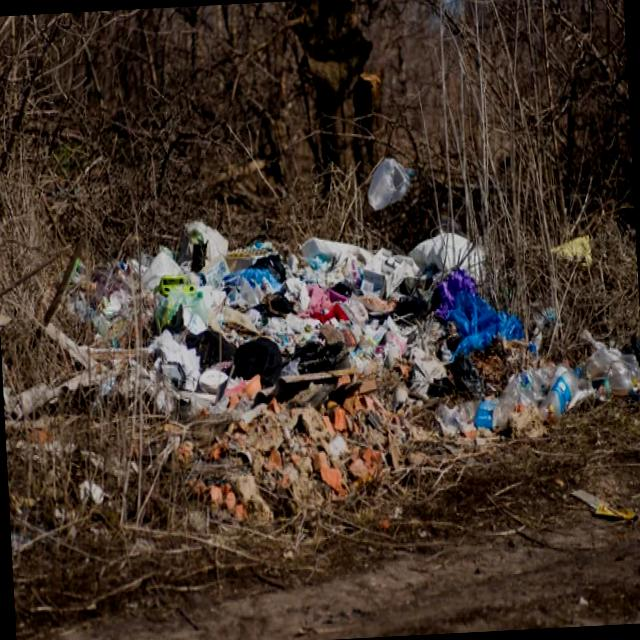garbage: (119, 172, 586, 512)
